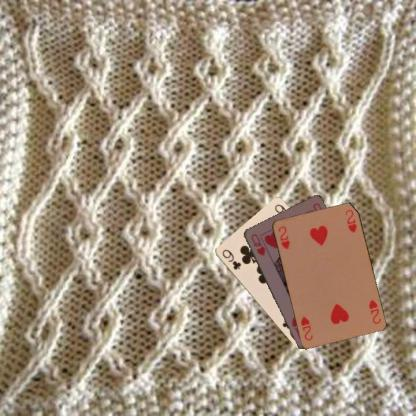2h: (366, 297, 382, 325), (276, 223, 290, 250)
9c: (220, 247, 242, 271)
Qh: (248, 231, 266, 257)
